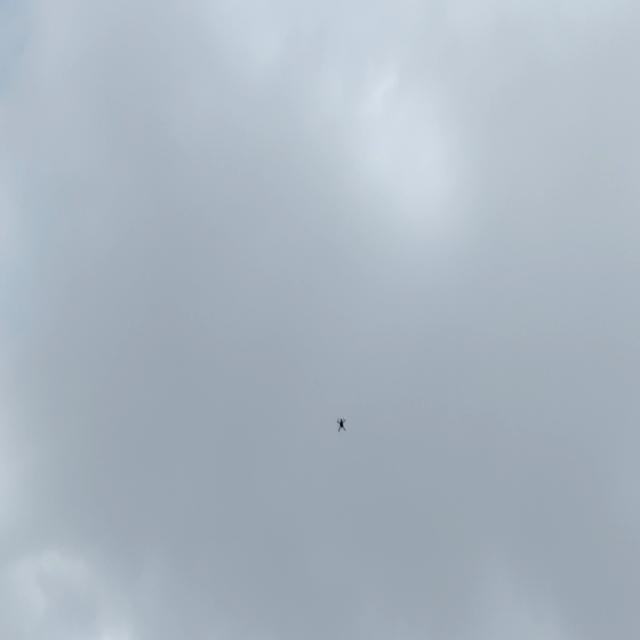drone: (333, 414, 349, 436)
